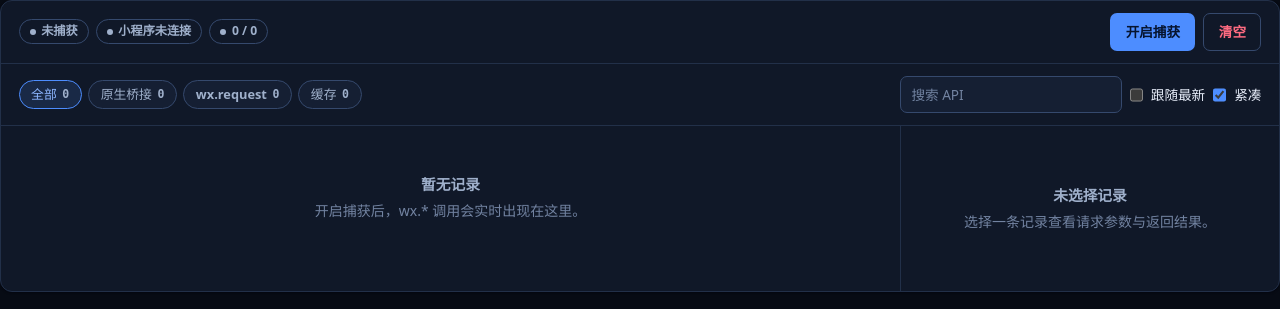
WxApiView › shows the page-side drops even when the shell reports none
This screenshot has width=1280, height=309.
Click the button with test id "wxapi-toggle": (1153, 32) [1110,13,1196,51]
Wait 200 ms
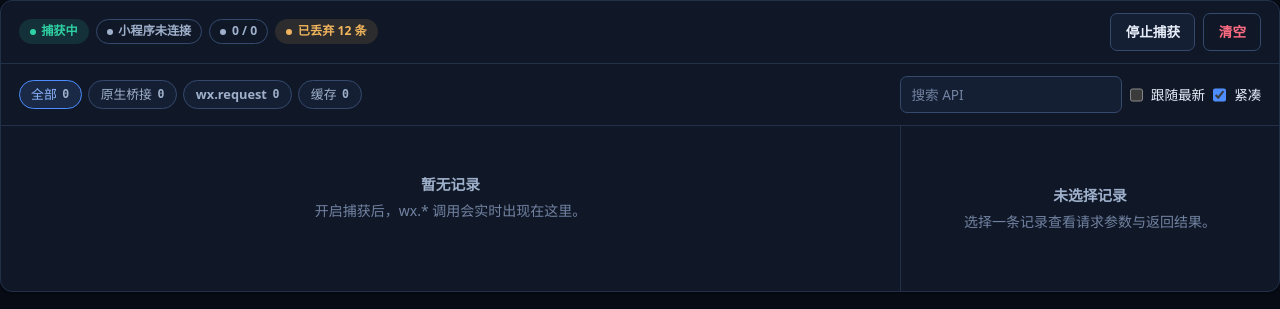
Check: the text with test id "wxapi-dropped" reads "已丢弃 12 条", box [298,22,367,40]
